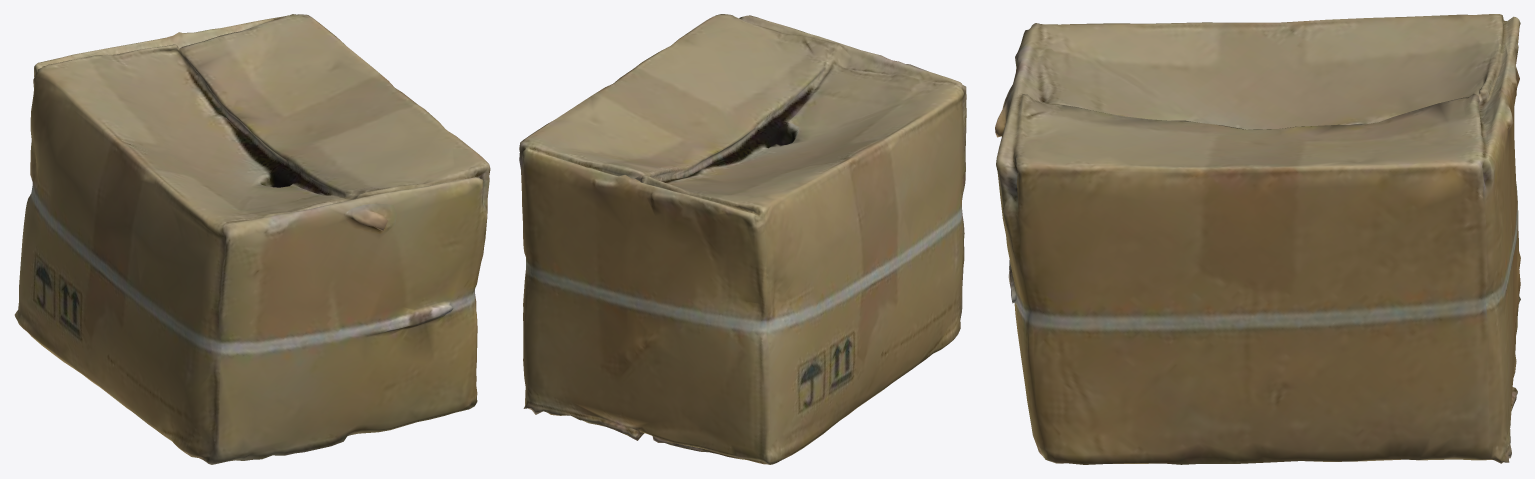
File: cardboard_box_01.glb
3 views of the same model, side by side, from view 1: azimuth 30°, elevation 25°; view 2: azimuth 150°, elevation 25°; view 3: azimuth 270°, elevation 25° (orthographic). The views are drawn at different scales.
Visible parts, largest first — view 1: cardboard_box_01; view 2: cardboard_box_01; view 3: cardboard_box_01.
Part boxes in pixels (x1=…): cardboard_box_01: x1=14, y1=14, x2=490, y2=464; cardboard_box_01: x1=519, y1=14, x2=966, y2=464; cardboard_box_01: x1=995, y1=14, x2=1520, y2=464.
Bounding box in the file's own units: 0.3868 × 0.3418 × 0.5159.
Materials: 1 (1 with a texture image).
